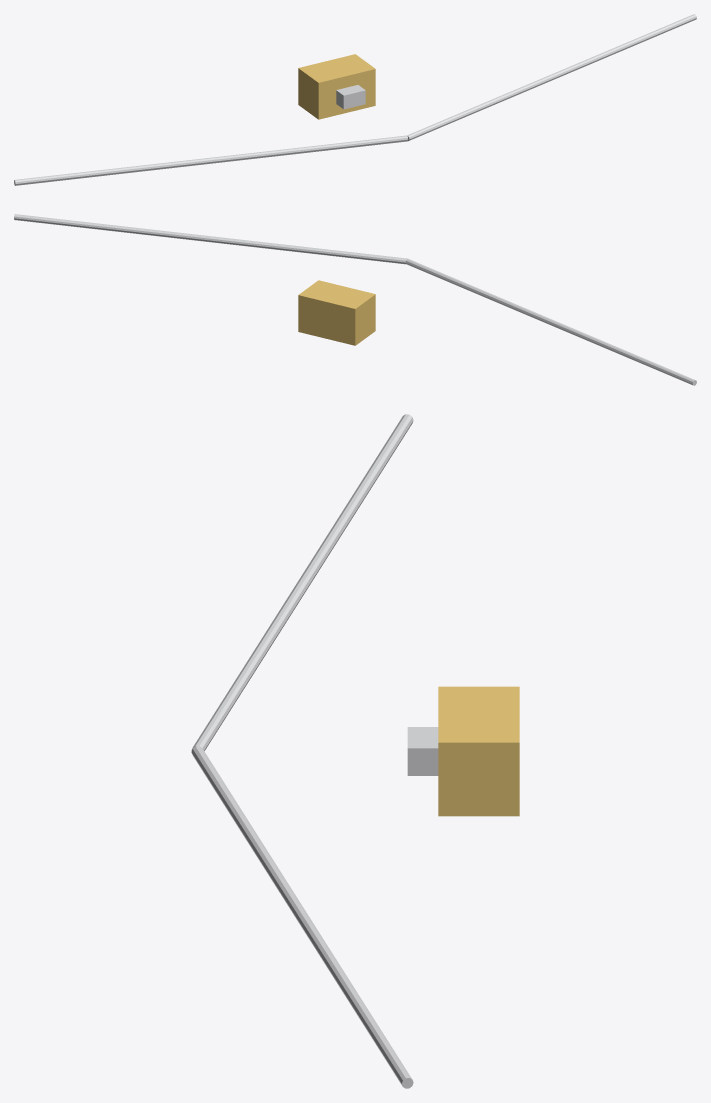
File: ins_radar.fbx
3 renders of one model, top to bottom at view 1: azimuth 30°, elevation 25°; view 2: azimuth 150°, elevation 25°; view 3: azimuth 270°, elevation 25°, orthographic. The views are drawn at different scales.
Parts seen in each view (by area): view 1: ins_radar; view 2: ins_radar; view 3: ins_radar.
Part boxes in pixels (<box>): ins_radar: <box>14,14,696,185</box>; ins_radar: <box>14,214,696,385</box>; ins_radar: <box>191,414,519,1088</box>.
Size of the model in its own units: 3.1 by 0.16 by 0.6457.
